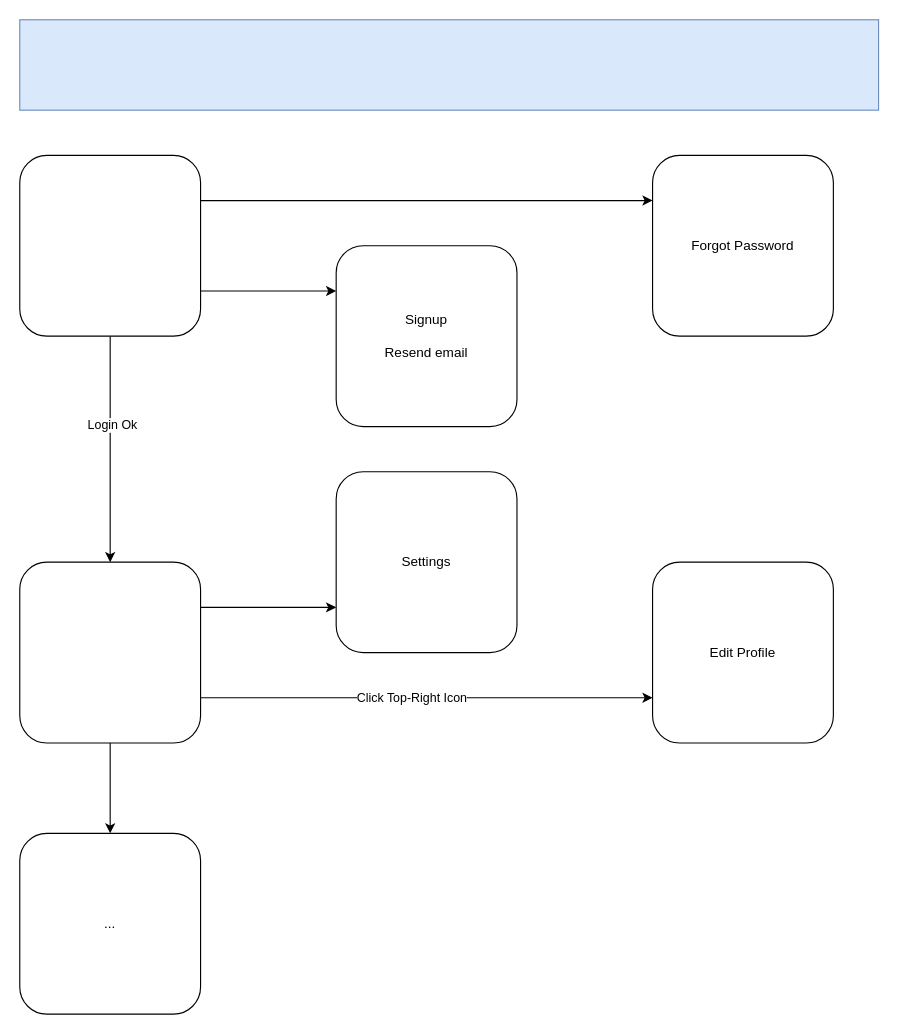
Some shapes in this 898 by 1034 pixel diagram are drawn without their labels. The shapes that lost their labels are listed below. From the top down, each one's box as (x1, y1, x2, y2) in pixels, then its label:
(19, 19, 879, 110): Main UI
(19, 154, 201, 336): Login
(19, 561, 201, 743): Dashboard
